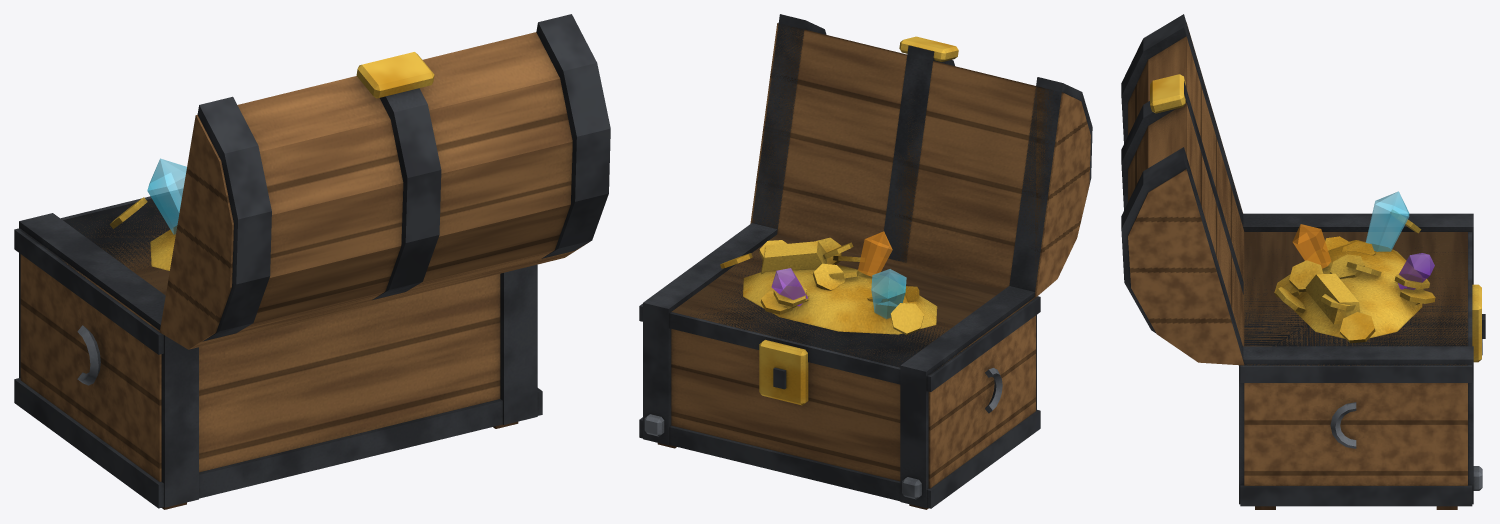
Rendered from cofre_tesoro_abierto.fbx.
3 renders of one model, left to right at view 1: azimuth 30°, elevation 25°; view 2: azimuth 150°, elevation 25°; view 3: azimuth 270°, elevation 25°, orthographic. The views are drawn at different scales.
Parts seen in each view (by area): view 1: cofre_tesoro_abierto_tapa, cofre_tesoro_abierto, cofre_tesoro_abierto_cristal; view 2: cofre_tesoro_abierto, cofre_tesoro_abierto_tapa, cofre_tesoro_abierto_cristal; view 3: cofre_tesoro_abierto, cofre_tesoro_abierto_tapa, cofre_tesoro_abierto_cristal.
Part boxes in pixels (box(x1,y1,x2,y2)): cofre_tesoro_abierto_tapa: box(159, 14, 610, 349); cofre_tesoro_abierto: box(14, 189, 542, 509); cofre_tesoro_abierto_cristal: box(147, 158, 186, 234); cofre_tesoro_abierto: box(639, 223, 1040, 509); cofre_tesoro_abierto_tapa: box(750, 14, 1092, 297); cofre_tesoro_abierto_cristal: box(771, 231, 906, 318); cofre_tesoro_abierto: box(1239, 210, 1485, 509); cofre_tesoro_abierto_tapa: box(1121, 14, 1244, 365); cofre_tesoro_abierto_cristal: box(1292, 191, 1434, 289).
Bounding box in the file's own units: 5.34 × 5.62 × 5.21.
2 materials, 2 textured.
